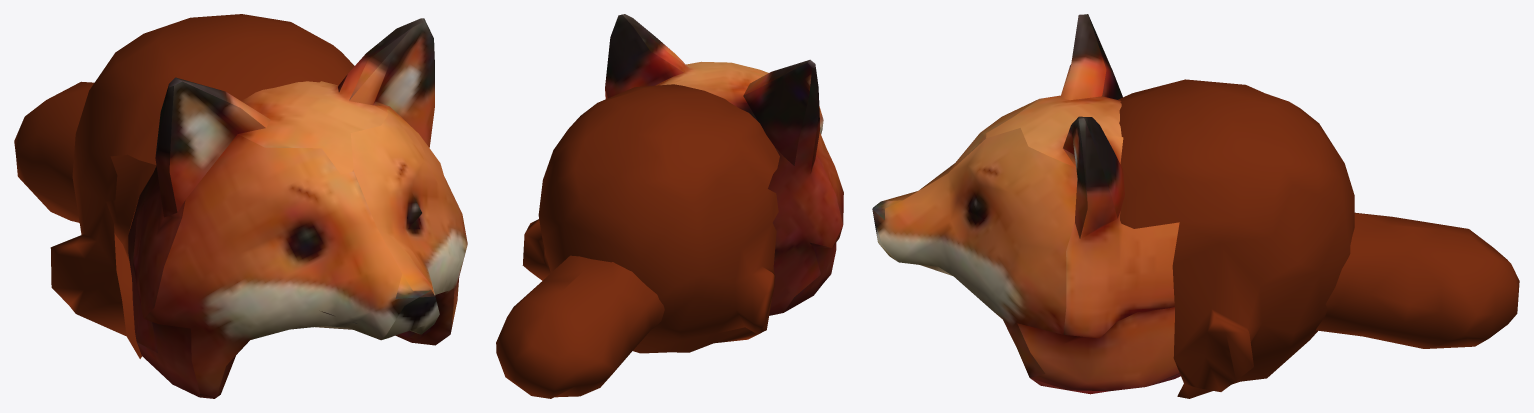
The model's file is red-fox.glb.
3 views of the same model, side by side, from view 1: azimuth 30°, elevation 25°; view 2: azimuth 150°, elevation 25°; view 3: azimuth 270°, elevation 25° (orthographic). The views are drawn at different scales.
Visible parts, largest first — view 1: geometry_0, HoodAnatomicalLining; view 2: HoodAnatomicalLining, geometry_0; view 3: geometry_0, HoodAnatomicalLining.
Boxes of the visible parts, bbox=[...] form: geometry_0: bbox=[14, 18, 467, 398]; HoodAnatomicalLining: bbox=[50, 14, 354, 358]; HoodAnatomicalLining: bbox=[522, 84, 779, 353]; geometry_0: bbox=[496, 14, 843, 398]; geometry_0: bbox=[872, 14, 1519, 394]; HoodAnatomicalLining: bbox=[1118, 79, 1354, 398].
Size of the model in its own units: 0.466 by 0.4618 by 0.9188.
Materials: 2 (1 with a texture image).
